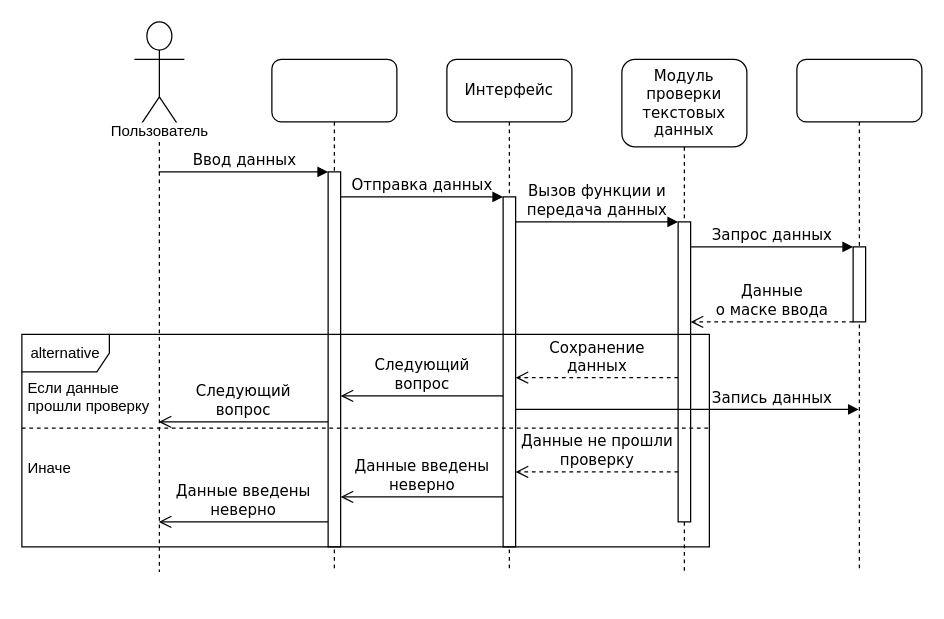
The diagram is 944 pixels wide and 619 high, and some of its shapes have lost their labels. Here are the shapes that lost their labels. From the top down, the box of each, then its label:
(271, 58, 397, 572): Гость
(796, 58, 922, 572): База данных
